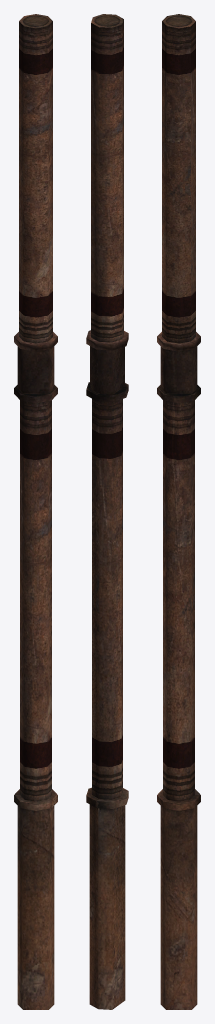
File: girder_rusty_scaffold_pole.dae
The picture shows the model from 3 angles, left to right: view 1: azimuth 90°, elevation 25°; view 2: azimuth 150°, elevation 25°; view 3: azimuth 270°, elevation 25°; orthographic projection.
Parts seen in each view (by area): view 1: girder_scaffold_pole_rusty; view 2: girder_scaffold_pole_rusty; view 3: girder_scaffold_pole_rusty.
Boxes of the visible parts, x1,y1,x2,y2 form: girder_scaffold_pole_rusty: [14, 14, 57, 1009]; girder_scaffold_pole_rusty: [86, 14, 128, 1009]; girder_scaffold_pole_rusty: [157, 14, 200, 1009].
Size of the model in its own units: 0.1473 by 3.63 by 0.1473.
